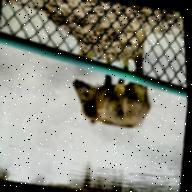boar: (70, 53, 187, 147)
